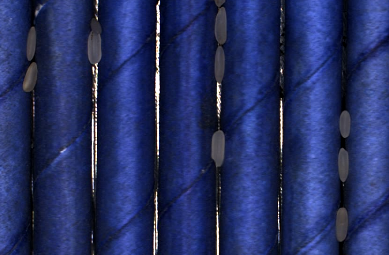complete_grain: (209, 128, 226, 171), (211, 7, 229, 46), (85, 29, 103, 66), (334, 206, 350, 243), (336, 146, 351, 184), (212, 44, 226, 83), (25, 25, 39, 62), (338, 109, 352, 141)
milky_grain: (21, 61, 40, 95)
